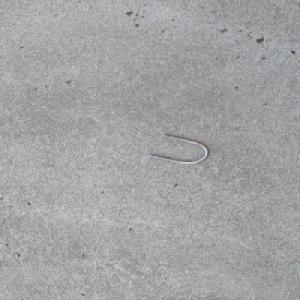ClampPart: (147, 134, 210, 164)
